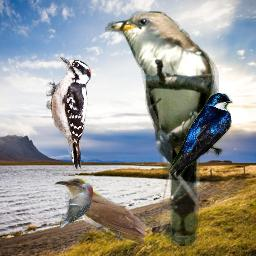Cuckoo: (105, 11, 219, 246), (52, 178, 145, 246)
Swallow: (167, 93, 233, 177)
Woodpecker: (46, 56, 92, 172), (59, 182, 93, 229)
